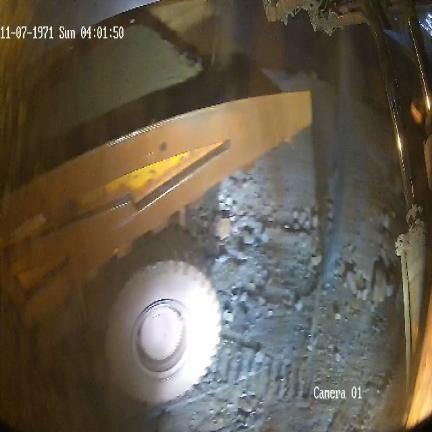pile: (175, 88, 405, 366), (21, 18, 224, 158)
